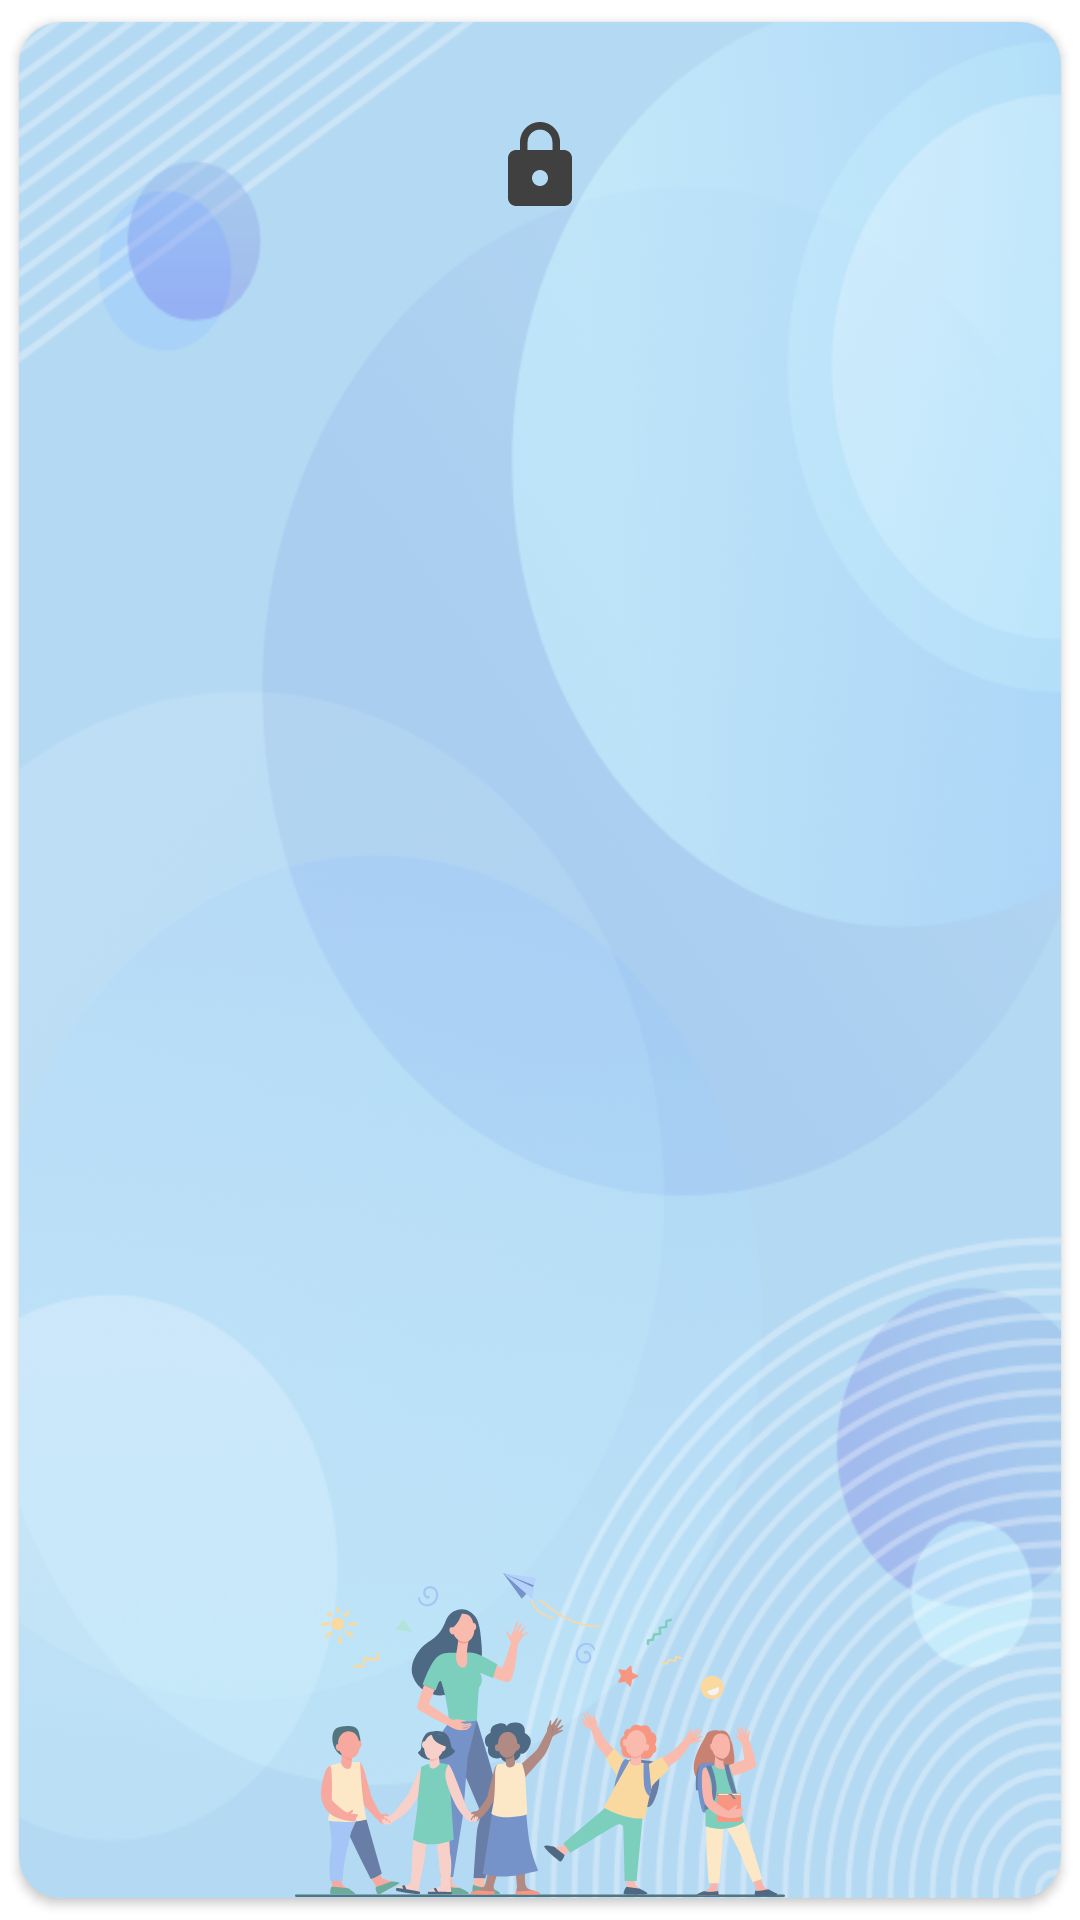

Named icons in this screenshot (1080w x 1920h) and their bounding boxes, box=[x1, y1, x2, y2]:
lock: box=[508, 122, 572, 206]
